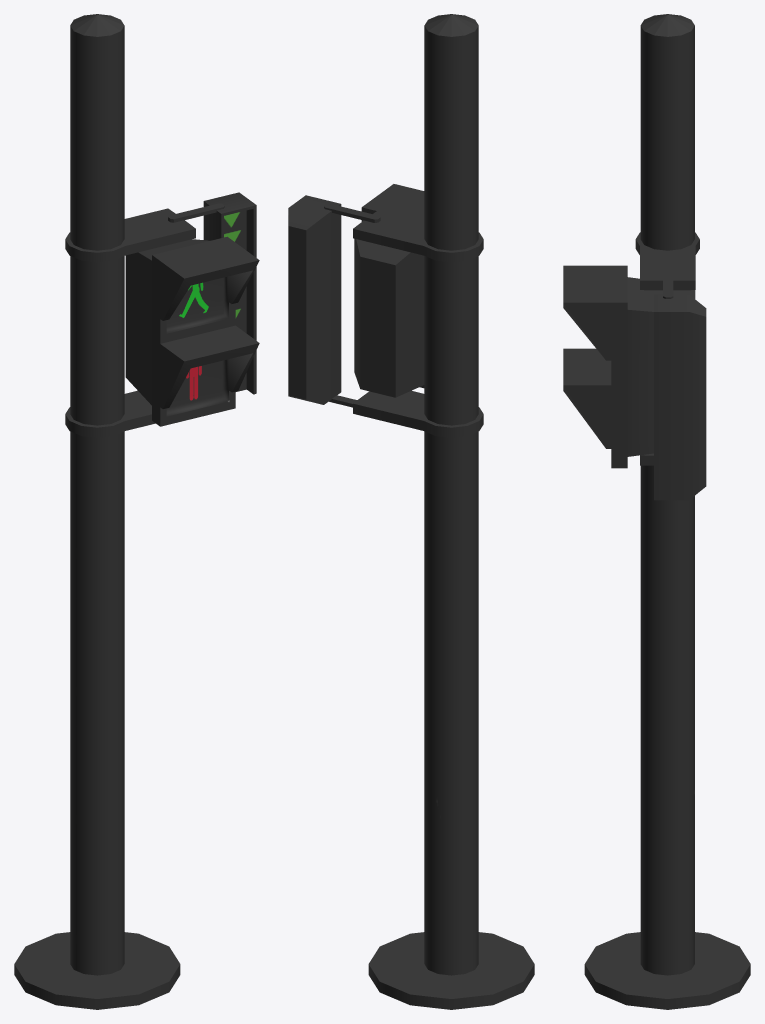
Rendered from unity_ver.fbx.
3 views of the same model, side by side, from view 1: azimuth 30°, elevation 25°; view 2: azimuth 150°, elevation 25°; view 3: azimuth 270°, elevation 25° (orthographic).
Parts seen in each view (by area): view 1: Cylinder001; view 2: Cylinder001; view 3: Cylinder001.
Boxes of the visible parts, bbox=[...] form: Cylinder001: bbox=[14, 14, 259, 1009]; Cylinder001: bbox=[288, 14, 534, 1009]; Cylinder001: bbox=[563, 14, 750, 1009].
Bounding box in the file's own units: 39.43 × 161 × 28.53.
Materials: 1 (1 with a texture image).
